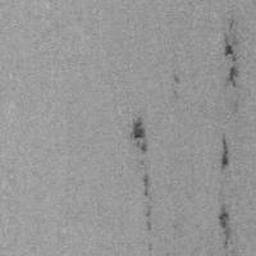Inclusion: (216, 18, 242, 90), (129, 116, 150, 166), (218, 201, 234, 250), (220, 132, 232, 177), (143, 172, 152, 197), (146, 204, 152, 232), (173, 73, 182, 84), (172, 221, 180, 230), (147, 242, 154, 252)
